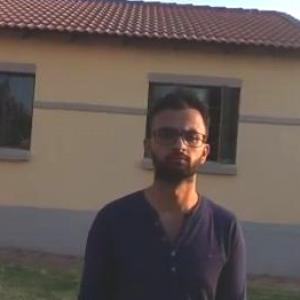follow: (69, 78, 253, 299)
